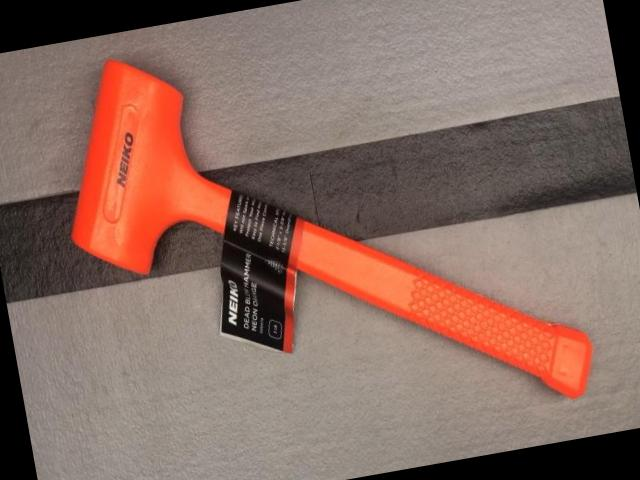hammer: (41, 0, 600, 480)
